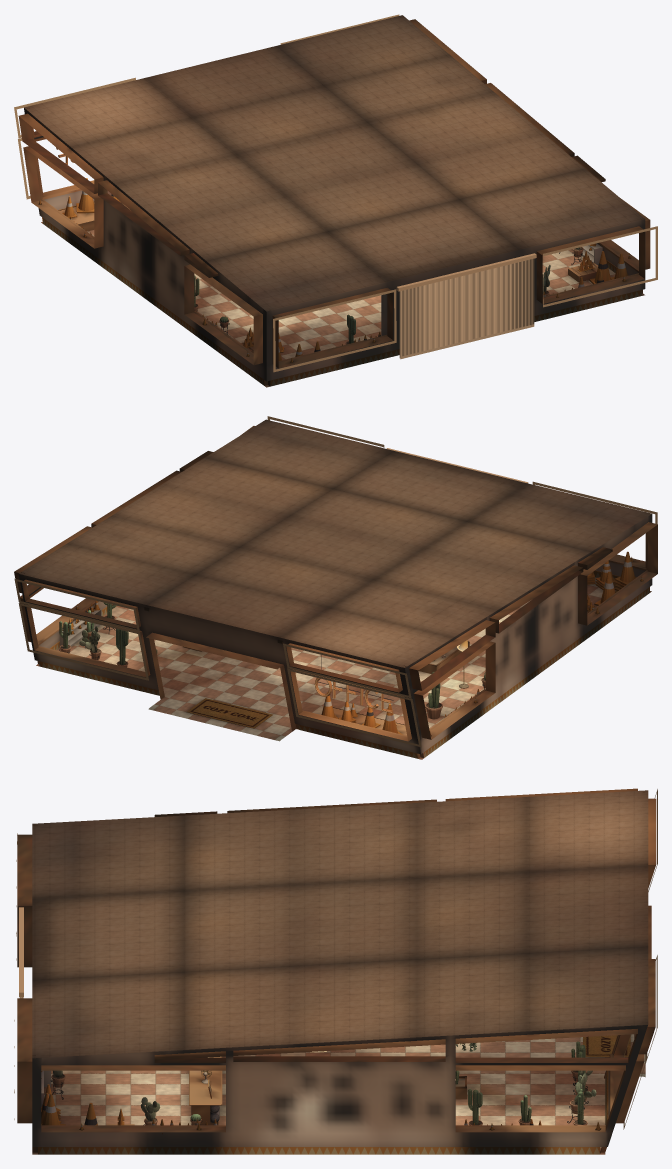
The model's file is cozy_cone_recepcao.glb.
The picture shows the model from 3 angles, top to bottom: view 1: azimuth 30°, elevation 25°; view 2: azimuth 150°, elevation 25°; view 3: azimuth 270°, elevation 25°; orthographic projection. The views are drawn at different scales.
Visible parts, largest first — view 1: recepcao_teto_1, recepcao_cores_1, recepcao_piso_1, recepcao_cores_3, recepcao_cores_2; view 2: recepcao_teto_1, recepcao_cores_1, recepcao_piso_1, recepcao_cores_3, recepcao_cores_2, recepcao_quadros_1; view 3: recepcao_teto_1, recepcao_cores_1, recepcao_piso_1, recepcao_cores_2, recepcao_cores_3, recepcao_quadros_1.
Part boxes in pixels (x1,y1,x2,y2): recepcao_teto_1: [24, 15, 644, 311]; recepcao_cores_1: [14, 14, 657, 386]; recepcao_piso_1: [41, 222, 644, 387]; recepcao_cores_3: [38, 147, 631, 362]; recepcao_cores_2: [194, 247, 583, 344]; recepcao_teto_1: [19, 419, 651, 667]; recepcao_cores_1: [14, 416, 657, 758]; recepcao_piso_1: [36, 577, 651, 759]; recepcao_cores_3: [59, 551, 643, 736]; recepcao_cores_2: [59, 602, 485, 719]; recepcao_quadros_1: [187, 698, 272, 728]; recepcao_teto_1: [32, 790, 648, 1058]; recepcao_cores_1: [14, 788, 657, 1154]; recepcao_piso_1: [32, 1034, 645, 1154]; recepcao_cores_2: [50, 1041, 596, 1125]; recepcao_cores_3: [41, 1043, 601, 1133]; recepcao_quadros_1: [209, 1035, 630, 1094].
Bounding box in the file's own units: 23.26 × 5.77 × 25.78.
4 materials, 3 textured.
